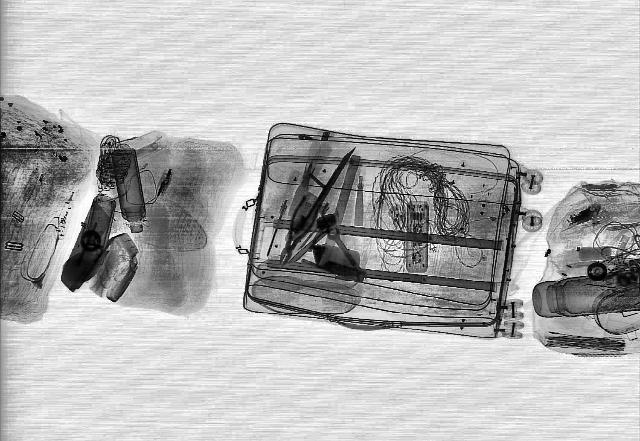Pliers: (269, 195, 327, 267)
Wrench: (323, 226, 371, 284)
